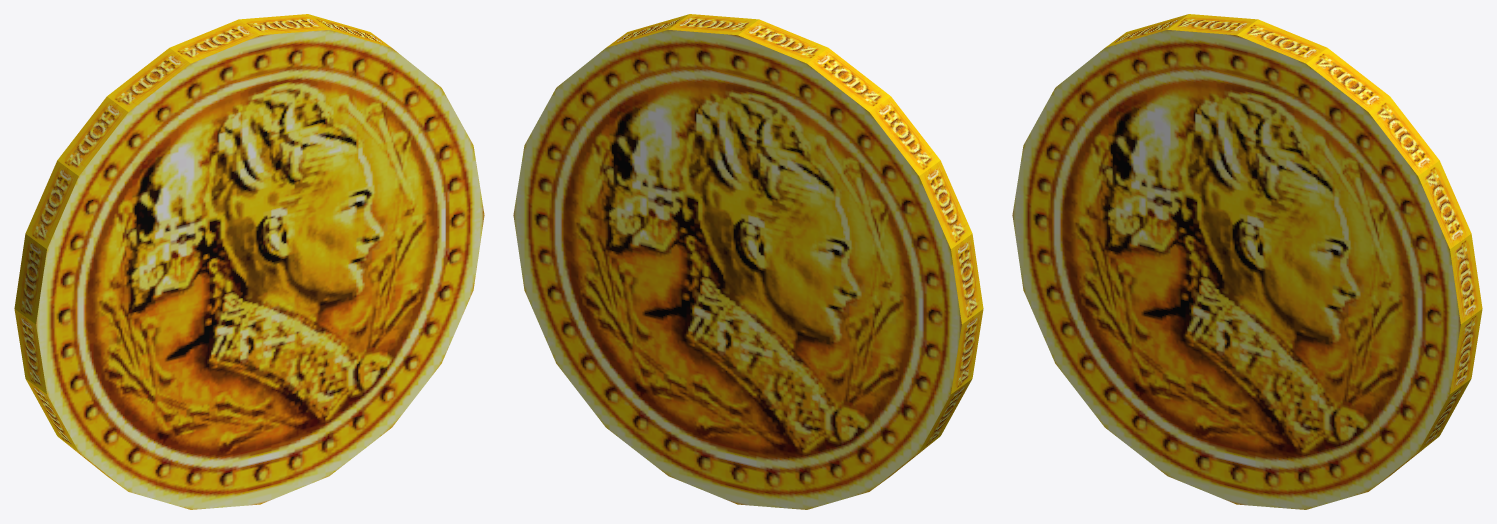
Rendered from Gold Coin.obj.
The picture shows the model from 3 angles, left to right: view 1: azimuth 30°, elevation 25°; view 2: azimuth 150°, elevation 25°; view 3: azimuth 330°, elevation 25°; orthographic projection.
Parts seen in each view (by area): view 1: Gold_Coin; view 2: Gold_Coin; view 3: Gold_Coin.
Part boxes in pixels (bbox=[...]): Gold_Coin: bbox=[14, 14, 484, 509]; Gold_Coin: bbox=[513, 14, 983, 509]; Gold_Coin: bbox=[1012, 14, 1482, 509].
Bounding box in the file's own units: 1.2 × 1.2 × 0.1001.
Materials: 1 (1 with a texture image).
